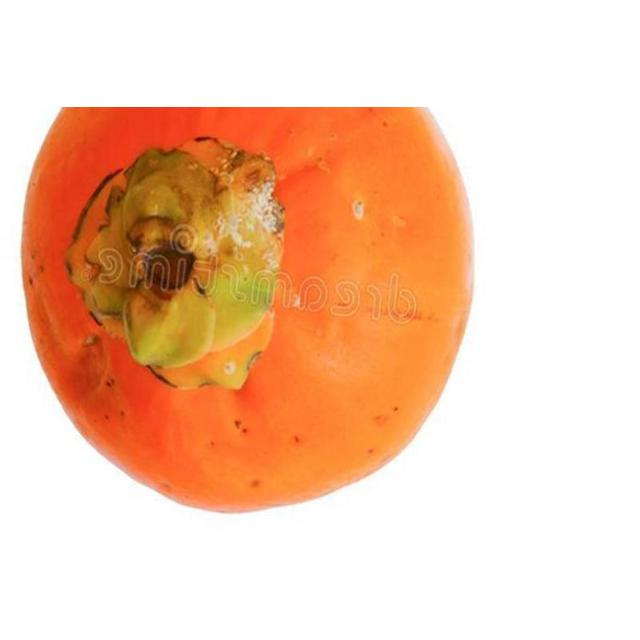good: (20, 107, 478, 517)
